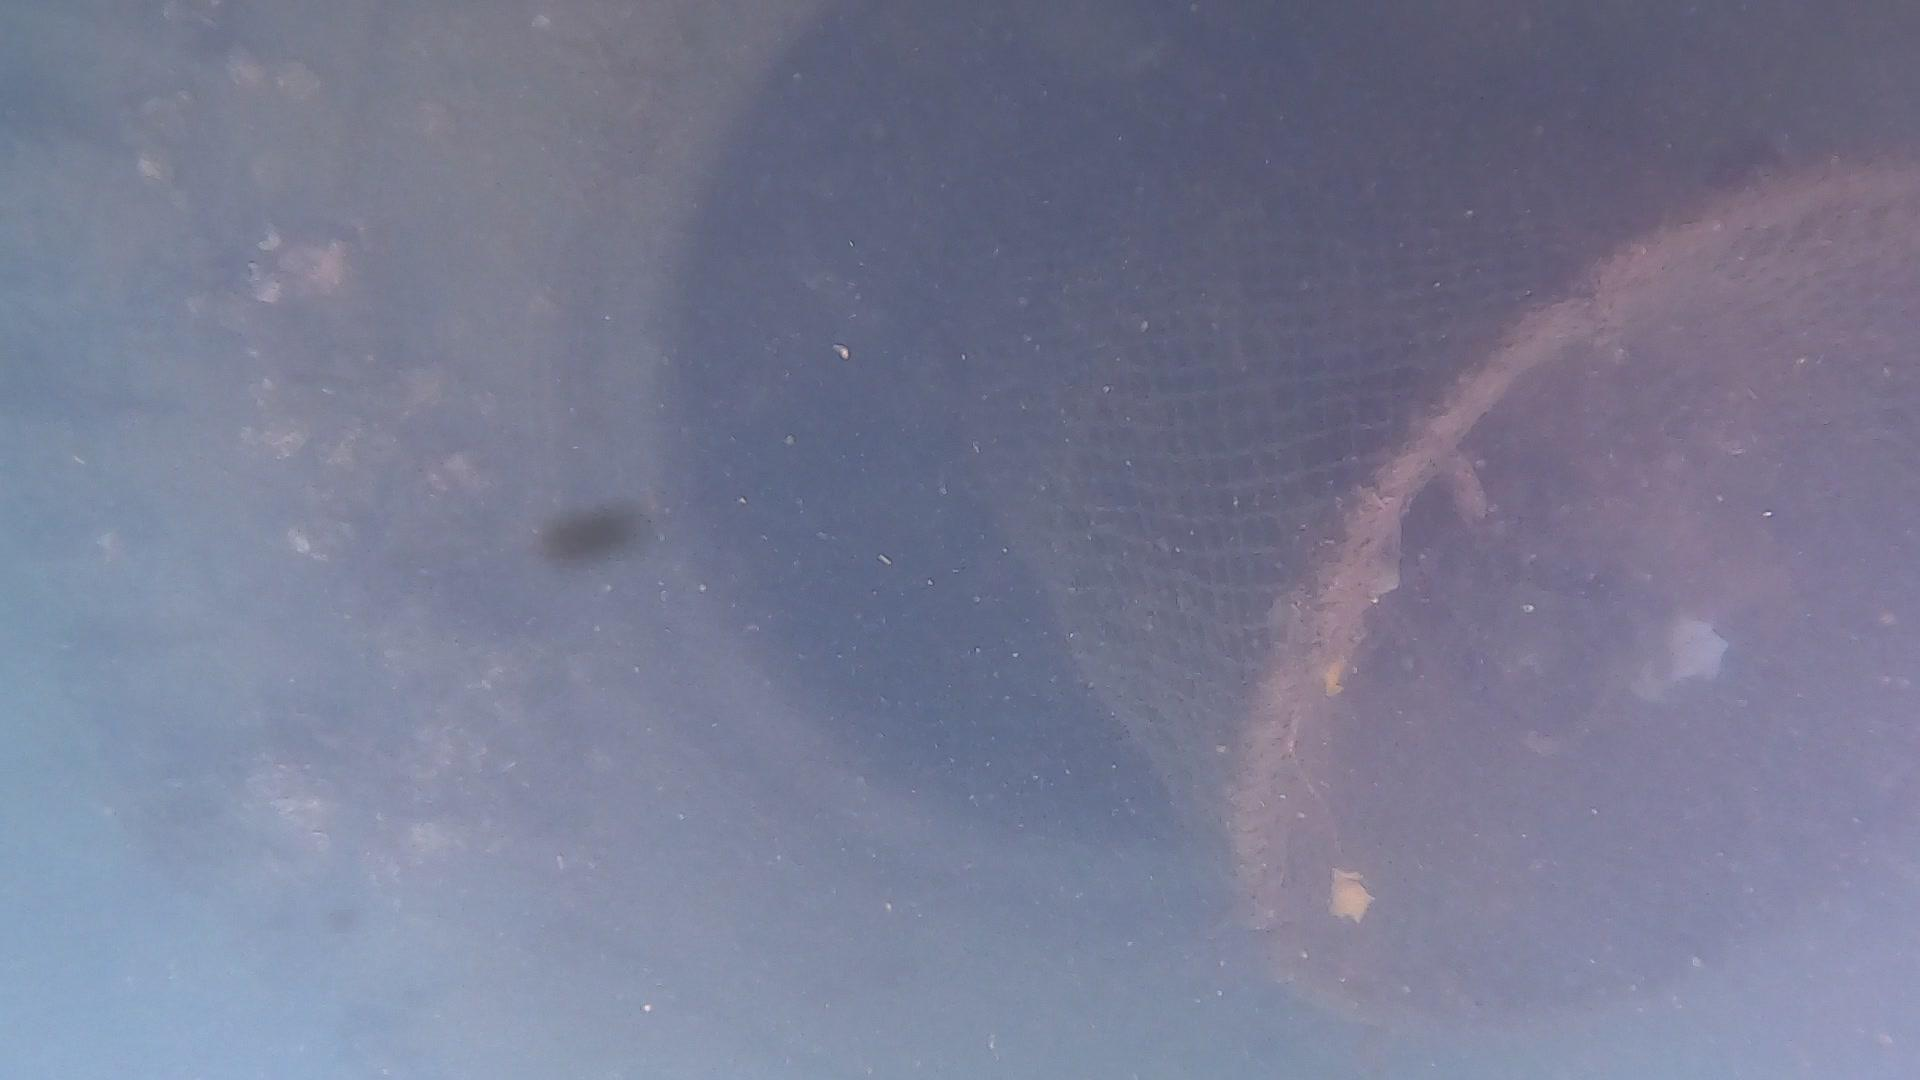spring fish trap: (963, 135, 1920, 1044)
tire: (0, 0, 1920, 1080)
